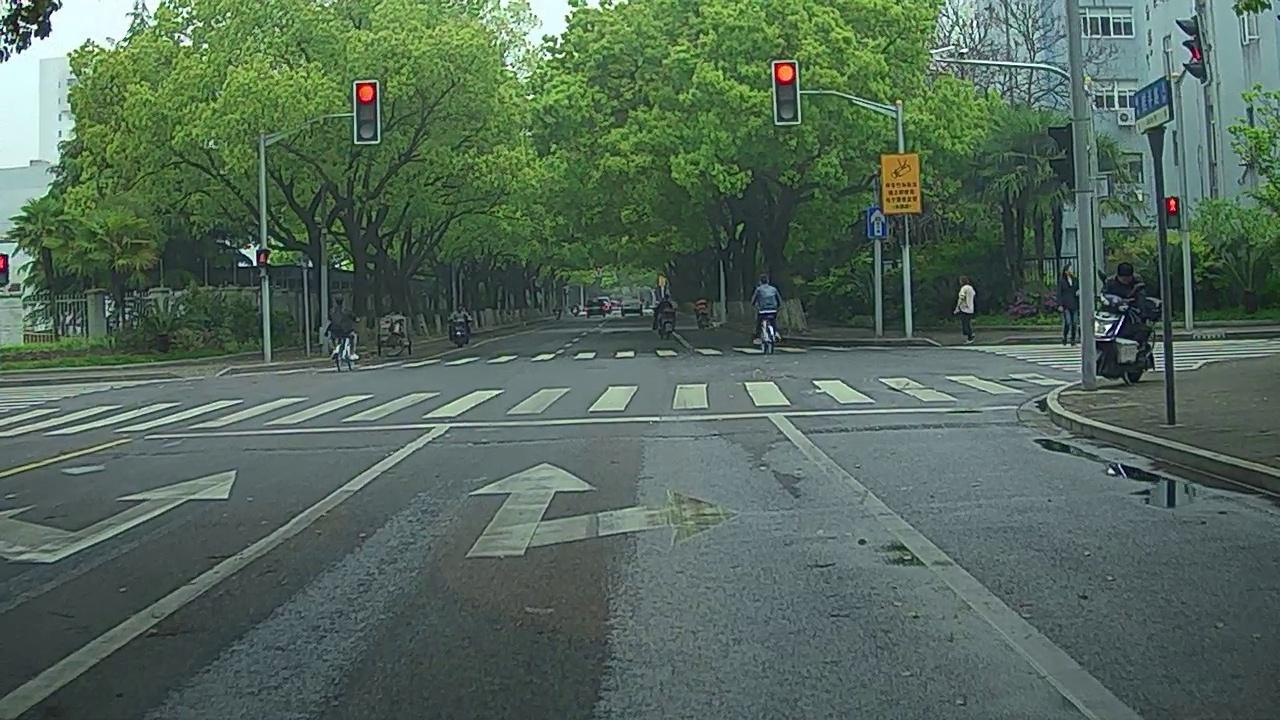traffic_light: (774, 61, 800, 123), (354, 82, 379, 143)
